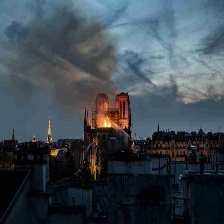fire: (101, 119, 113, 129)
smoke: (5, 9, 121, 111)
